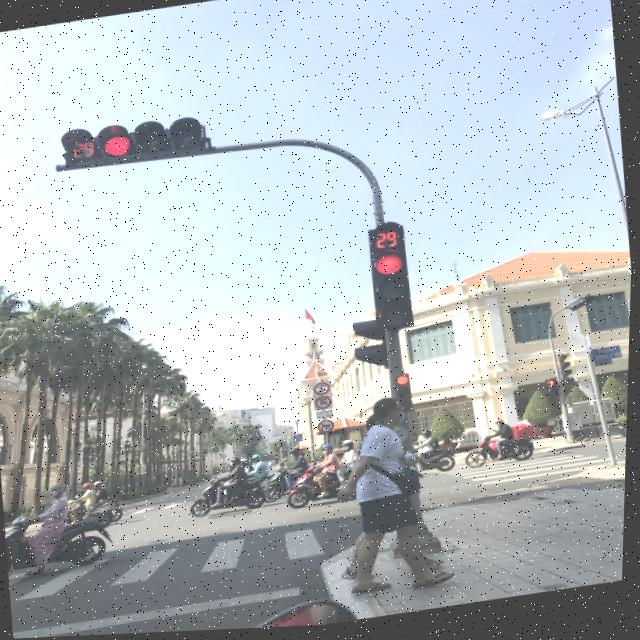Red: (85, 108, 211, 174), (368, 250, 422, 337), (393, 372, 421, 416)
